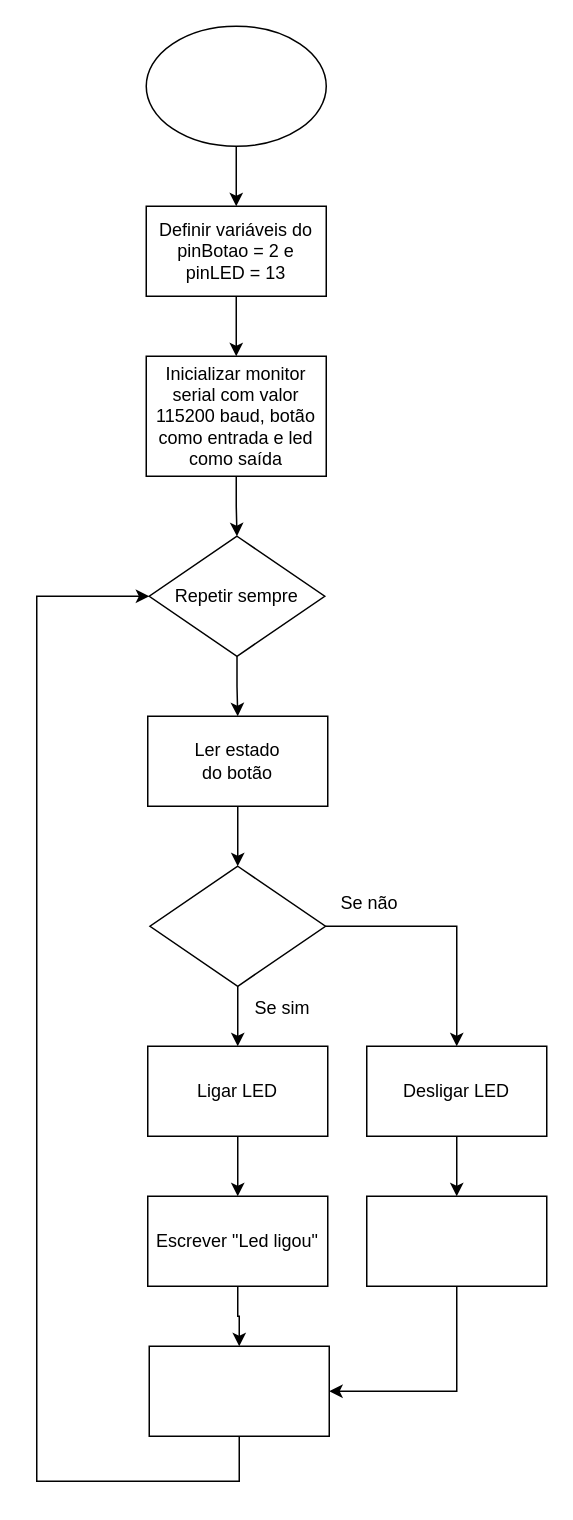
Some shapes in this 573 by 1520 pixel diagram are drawn without their labels. The centre of each missing label's shape, as x and y in pixels:
Definir delay de 1000 ms: pixel 238 1390
Escrever "Led desligou": pixel 456 1240
Início: pixel 235 85
Se botão estiver pressionado: pixel 237 925
